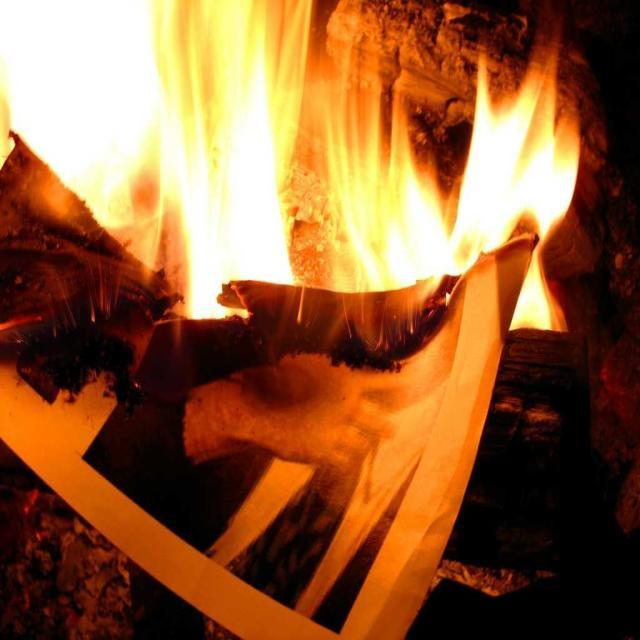Fire: (146, 2, 565, 358)
